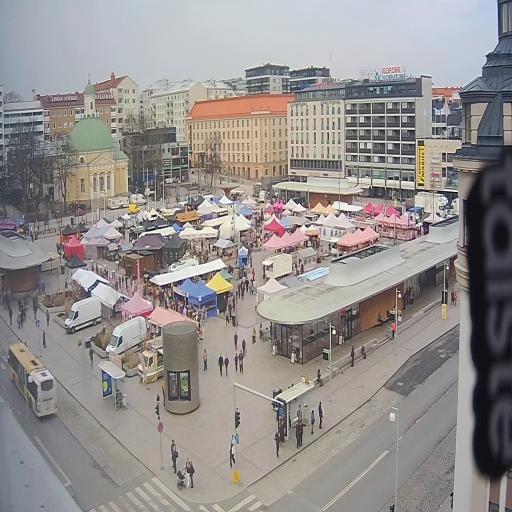bus: (4, 342, 61, 424)
delivery: (106, 313, 150, 362), (60, 289, 106, 333), (412, 193, 448, 222), (128, 190, 150, 208), (125, 203, 141, 218)
